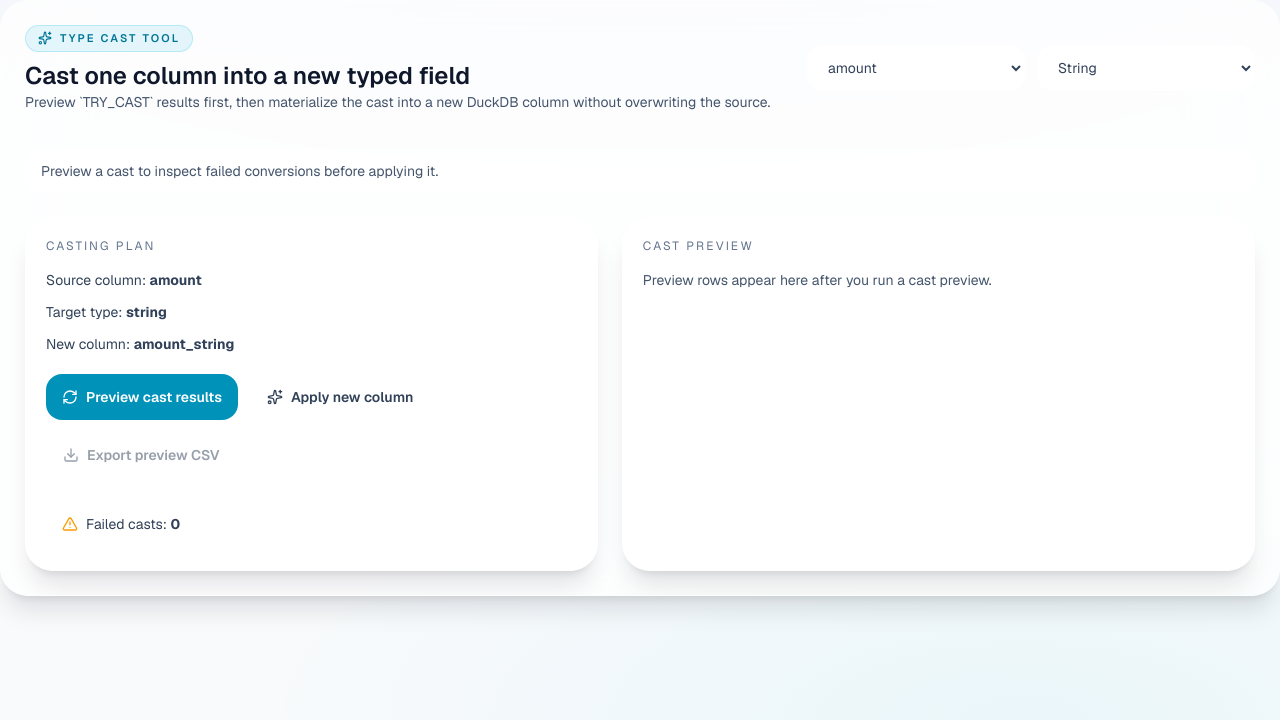
Scenario: TypeCastTool › previews cast results and failed conversions
Select "Number" in the dropdown named "target type" at (1146, 68), box [1037,45,1255,91]
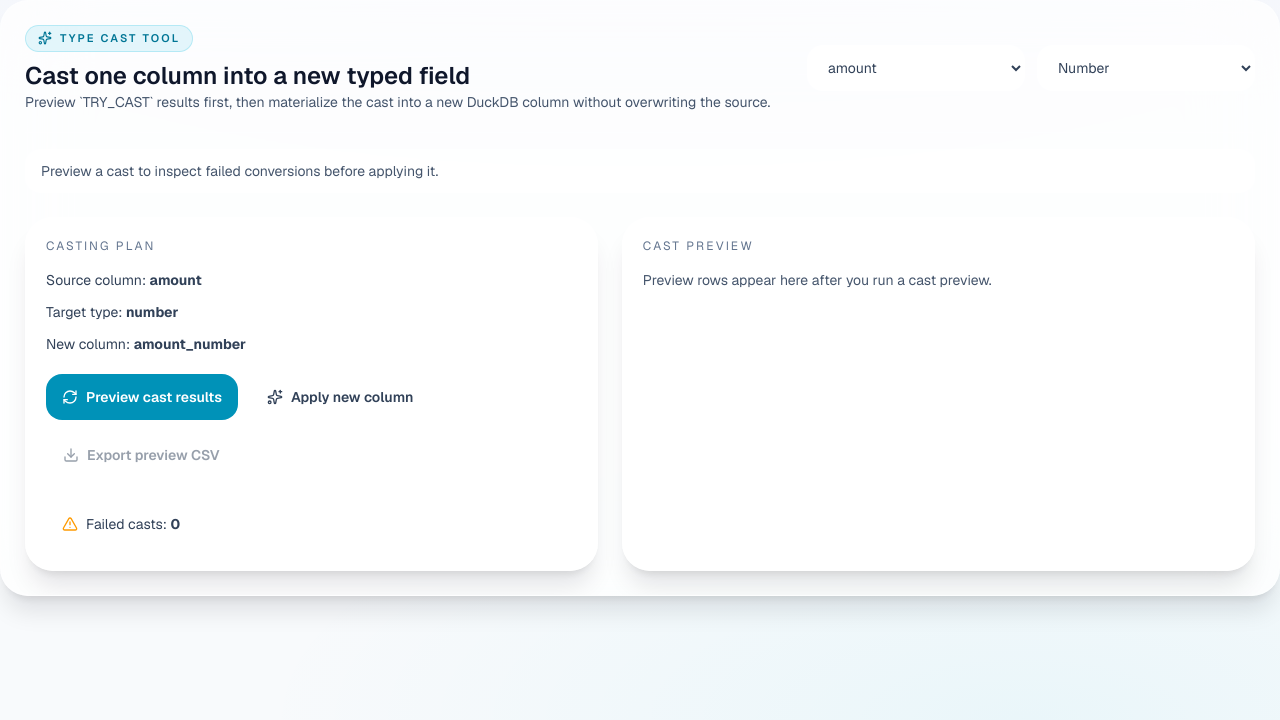
Click the button "Preview cast results" at (142, 396), box [46,374,238,420]
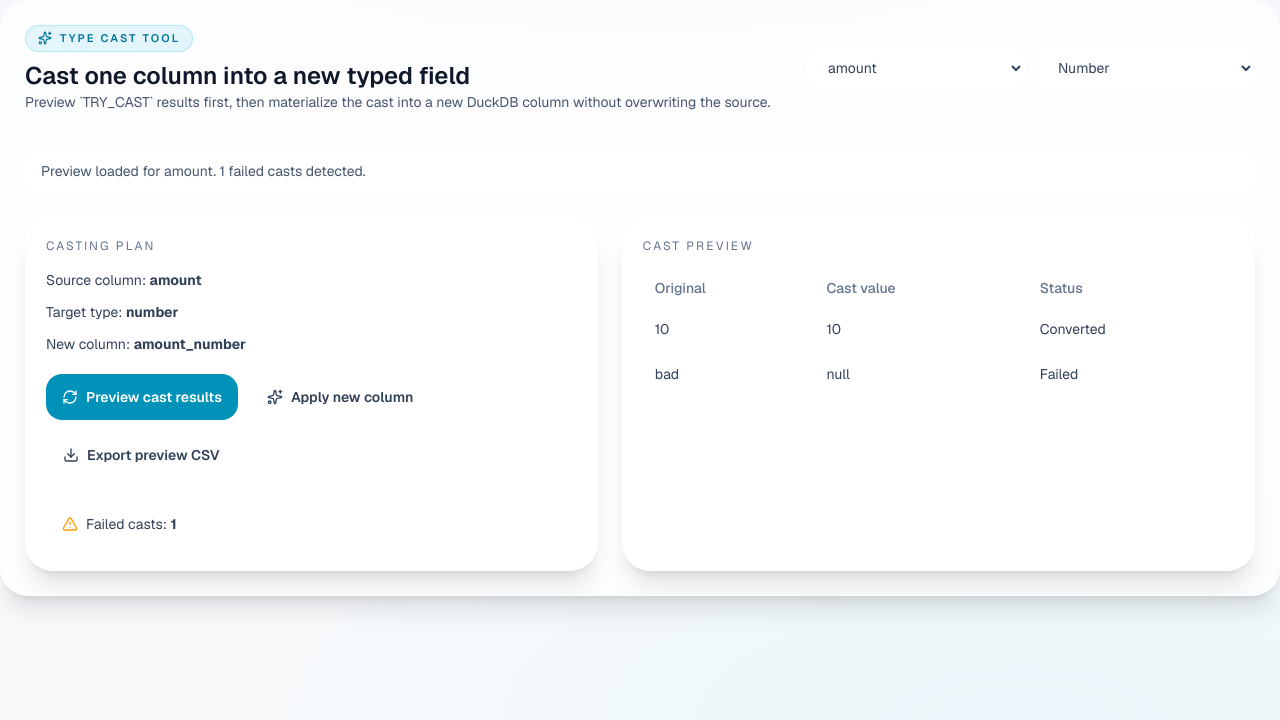
Expected: the text "Preview loaded for amount. 1 failed casts detected." is shown, [25,148,1255,192]
Expected: the text "bad" is shown, [643,351,814,396]
Expected: the text "Failed" is shown, [1028,351,1234,396]
